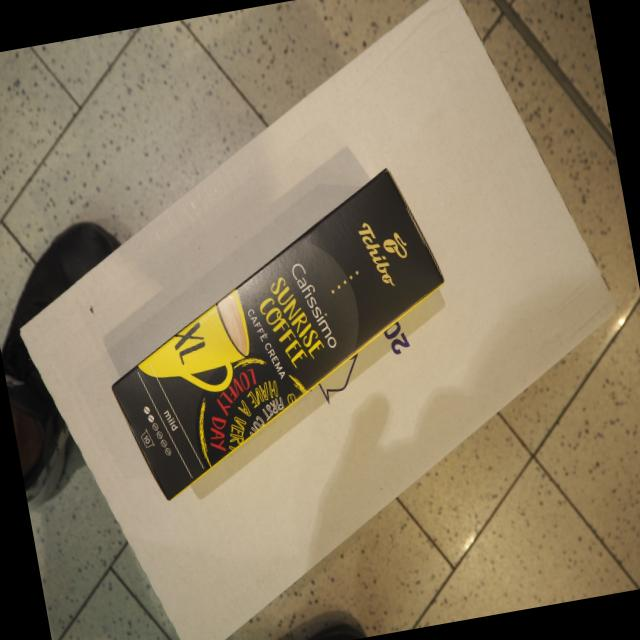Simo Sunrise: (105, 162, 447, 503)
